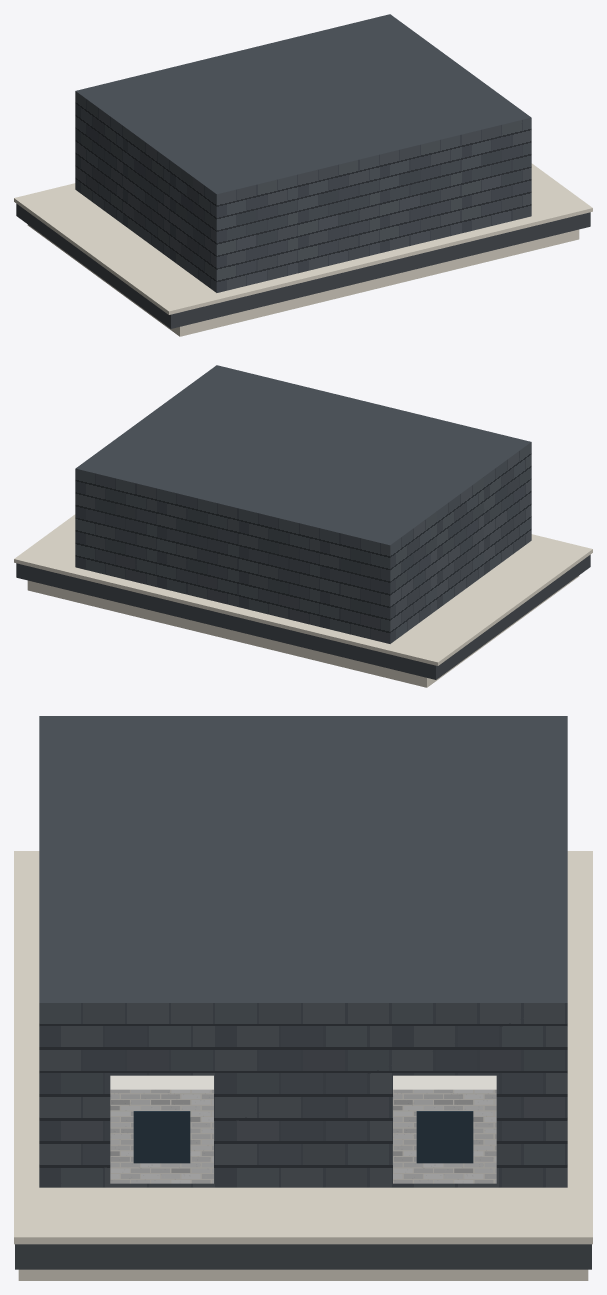
Rendered from roof-cornice-6.obj.
The picture shows the model from 3 angles, top to bottom: view 1: azimuth 30°, elevation 25°; view 2: azimuth 150°, elevation 25°; view 3: azimuth 270°, elevation 25°; orthographic projection. The views are drawn at different scales.
Visible parts, largest first — view 1: part4, part3.nocast, part2.nocast, part1.nocast; view 2: part4, part3.nocast, part2.nocast, part1.nocast; view 3: part4, part3.nocast, part2.nocast, part5, part7, part1.nocast, part6.nocast, part8.nocast.
Part boxes in pixels (x1,y1,x2,y2): part4: (75, 14, 531, 292); part3.nocast: (14, 163, 592, 314); part2.nocast: (16, 203, 590, 328); part1.nocast: (27, 224, 579, 336); part4: (75, 365, 531, 643); part3.nocast: (14, 514, 592, 665); part2.nocast: (16, 554, 590, 679); part1.nocast: (27, 575, 579, 687); part4: (39, 716, 567, 1187); part3.nocast: (14, 851, 592, 1244); part2.nocast: (15, 1244, 591, 1269); part5: (393, 1075, 496, 1183); part7: (110, 1075, 213, 1183); part1.nocast: (18, 1269, 588, 1280); part6.nocast: (416, 1111, 473, 1163); part8.nocast: (133, 1111, 190, 1163).
Size of the model in its own units: 9.7 by 2.8 by 6.14.
5 materials, 2 textured.
